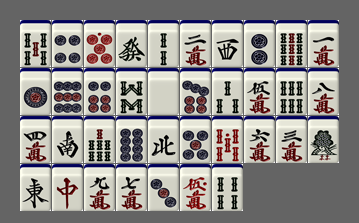0m: (180, 164, 211, 211)
0p: (84, 20, 115, 67)
0s: (212, 116, 243, 163)
1m: (308, 20, 339, 67)
1p: (20, 68, 51, 115)
1s: (308, 116, 339, 163)
1z: (20, 164, 51, 211)
2m: (180, 20, 211, 67)
2p: (244, 20, 275, 67)
2s: (148, 20, 179, 67)
2z: (52, 116, 83, 163)
3m: (276, 116, 307, 163)
3p: (148, 164, 179, 211)
3s: (212, 68, 243, 115)
3z: (212, 20, 243, 67)
4m: (20, 116, 51, 163)
4p: (52, 20, 83, 67)
4s: (212, 164, 243, 211)
4z: (148, 116, 179, 163)
5m: (244, 68, 275, 115)
5p: (180, 116, 211, 163)
5s: (20, 20, 51, 67)
5z: (148, 68, 179, 115)
6m: (244, 116, 275, 163)
6p: (84, 68, 115, 115)
6s: (276, 68, 307, 115)
6z: (116, 20, 147, 67)
7m: (116, 164, 147, 211)
7p: (180, 68, 211, 115)
7s: (84, 116, 115, 163)
7z: (52, 164, 83, 211)
8m: (308, 68, 339, 115)
8p: (116, 116, 147, 163)
8s: (116, 68, 147, 115)
9m: (84, 164, 115, 211)
9p: (52, 68, 83, 115)
9s: (276, 20, 307, 67)
